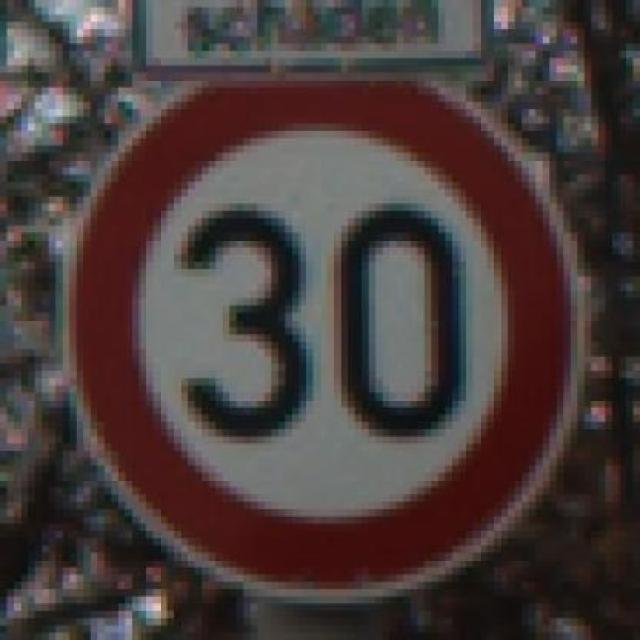Speed Limit 30 KMPh: (14, 58, 612, 604)
